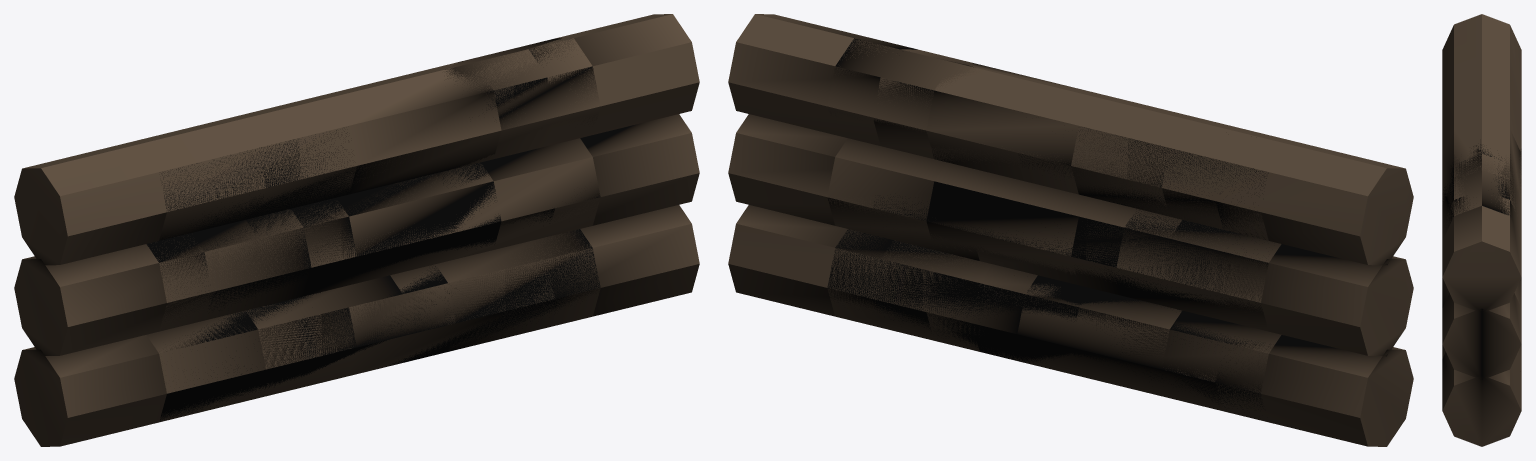
Rendered from woodpile.glb.
The picture shows the model from 3 angles, left to right: view 1: azimuth 30°, elevation 25°; view 2: azimuth 150°, elevation 25°; view 3: azimuth 270°, elevation 25°; orthographic projection. The views are drawn at different scales.
Visible parts, largest first — view 1: woodpile; view 2: woodpile; view 3: woodpile.
Boxes of the visible parts, <box> form: woodpile: <box>14,14,699,446</box>; woodpile: <box>728,14,1413,446</box>; woodpile: <box>1442,14,1521,446</box>.
Bounding box in the file's own units: 2.04 × 0.86 × 0.3.
